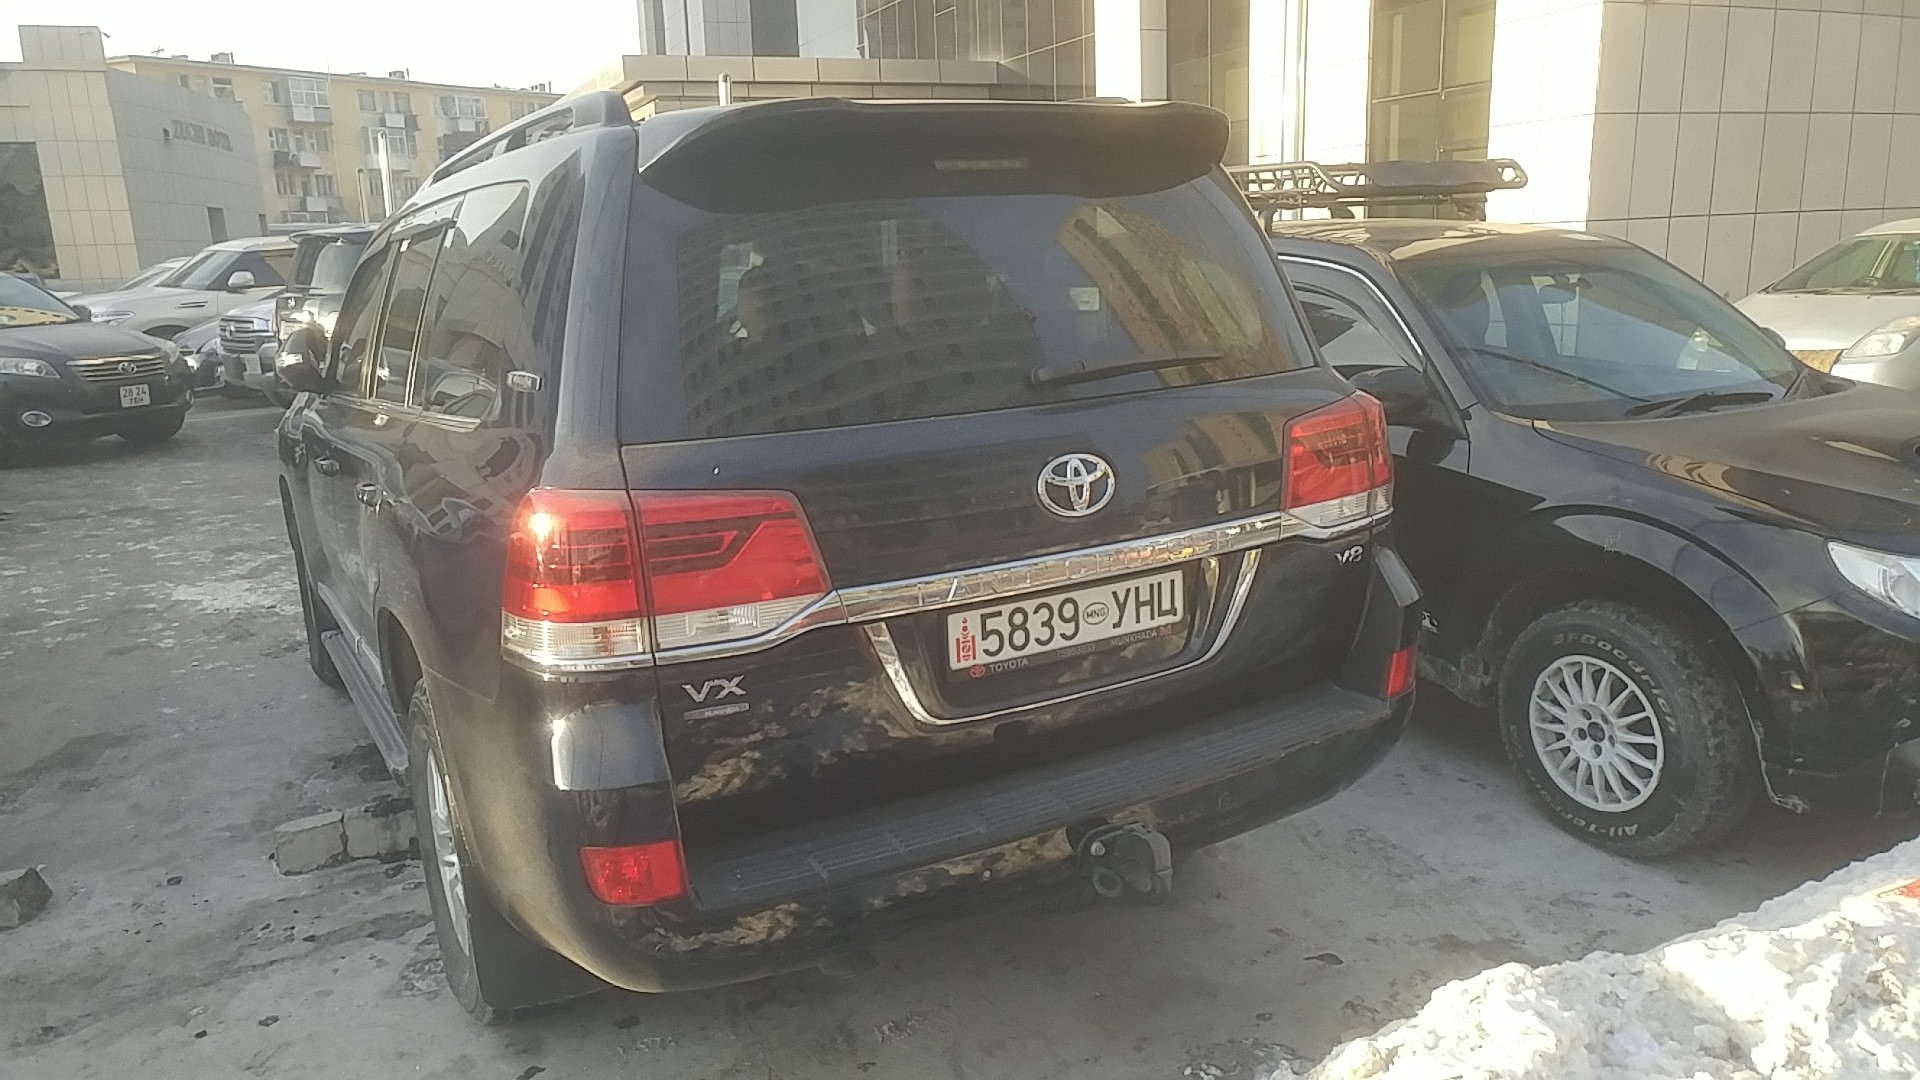3: (1032, 601, 1056, 647)
5: (979, 609, 1007, 658)
8: (1007, 606, 1032, 651)
9: (1057, 595, 1081, 642)
n: (1133, 581, 1157, 624)
plate: (942, 560, 1192, 682)
ts: (1156, 577, 1180, 621)
u: (1109, 586, 1133, 629)
